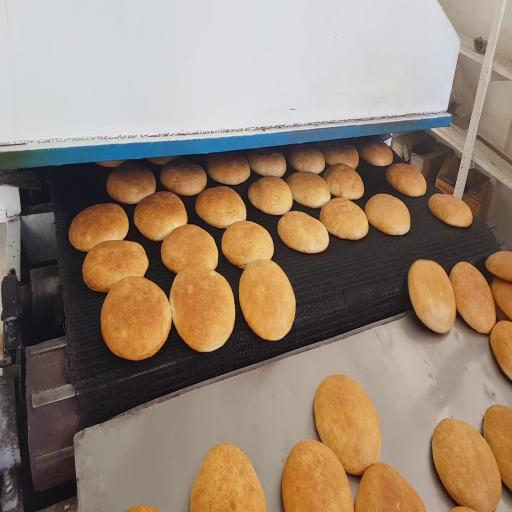bread: (314, 375, 381, 475), (432, 419, 501, 511), (101, 277, 171, 360), (170, 267, 235, 352), (282, 440, 353, 511), (190, 445, 266, 511), (239, 260, 295, 340), (408, 260, 456, 333), (82, 240, 148, 292), (355, 463, 425, 511), (450, 262, 495, 333), (69, 204, 129, 252), (161, 225, 218, 273), (134, 191, 187, 241), (222, 221, 273, 268), (484, 405, 511, 490), (106, 161, 156, 204), (195, 186, 246, 228), (278, 211, 329, 253), (320, 198, 368, 239), (365, 193, 410, 235), (248, 176, 293, 215), (160, 160, 206, 196), (287, 172, 330, 208), (428, 194, 472, 227), (323, 164, 363, 200), (207, 153, 250, 185), (386, 164, 426, 197), (490, 320, 511, 380), (247, 148, 286, 177), (288, 146, 325, 174), (322, 141, 359, 169), (358, 138, 393, 166), (485, 251, 512, 282), (491, 278, 511, 318), (495, 301, 510, 321), (148, 156, 178, 165), (97, 160, 124, 168), (126, 506, 159, 511), (450, 507, 473, 511)
